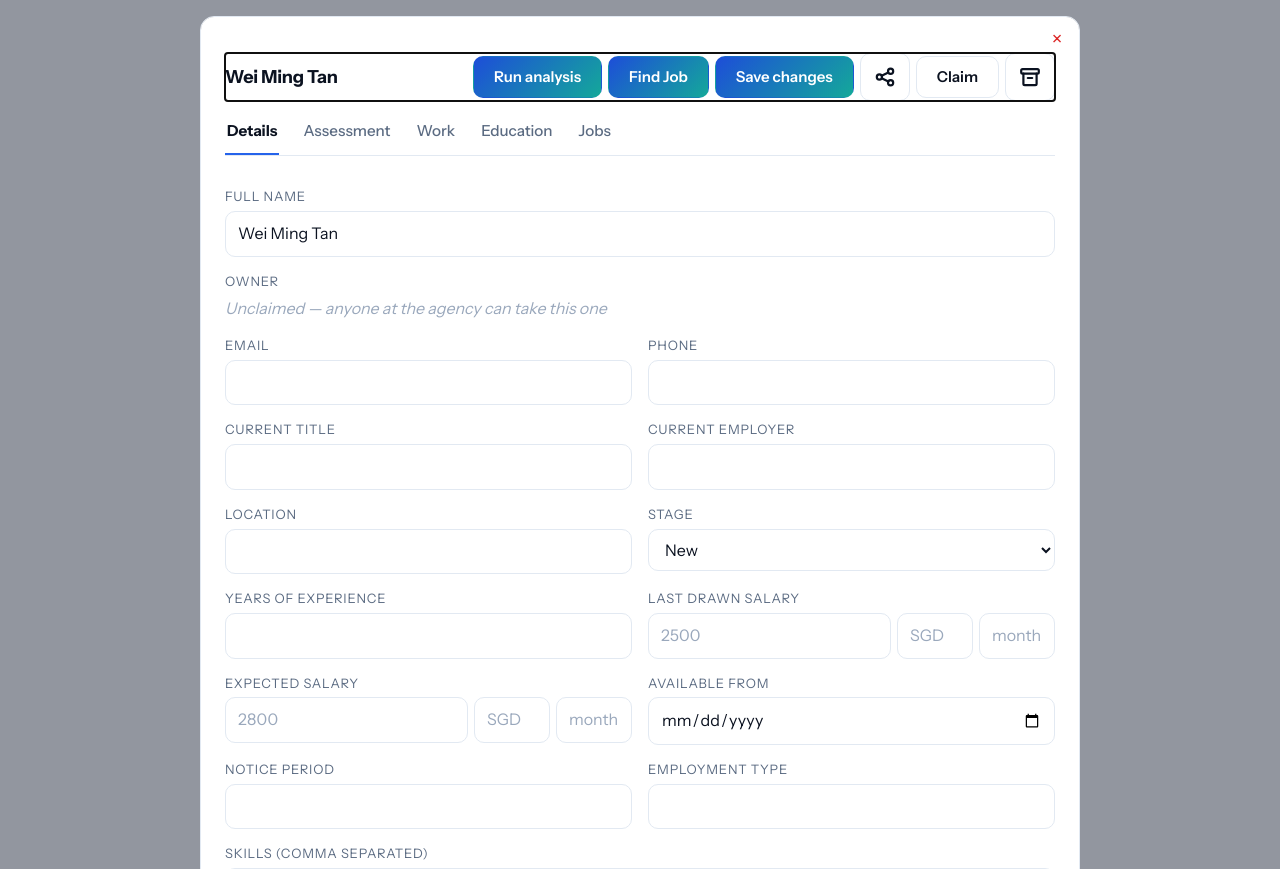
Test: Find Job on the candidate panel › replaces the shown dataset when Find Job runs again
Step 1. Click the button "Find Job" → {"x": 658, "y": 77}, box [608, 56, 709, 98]
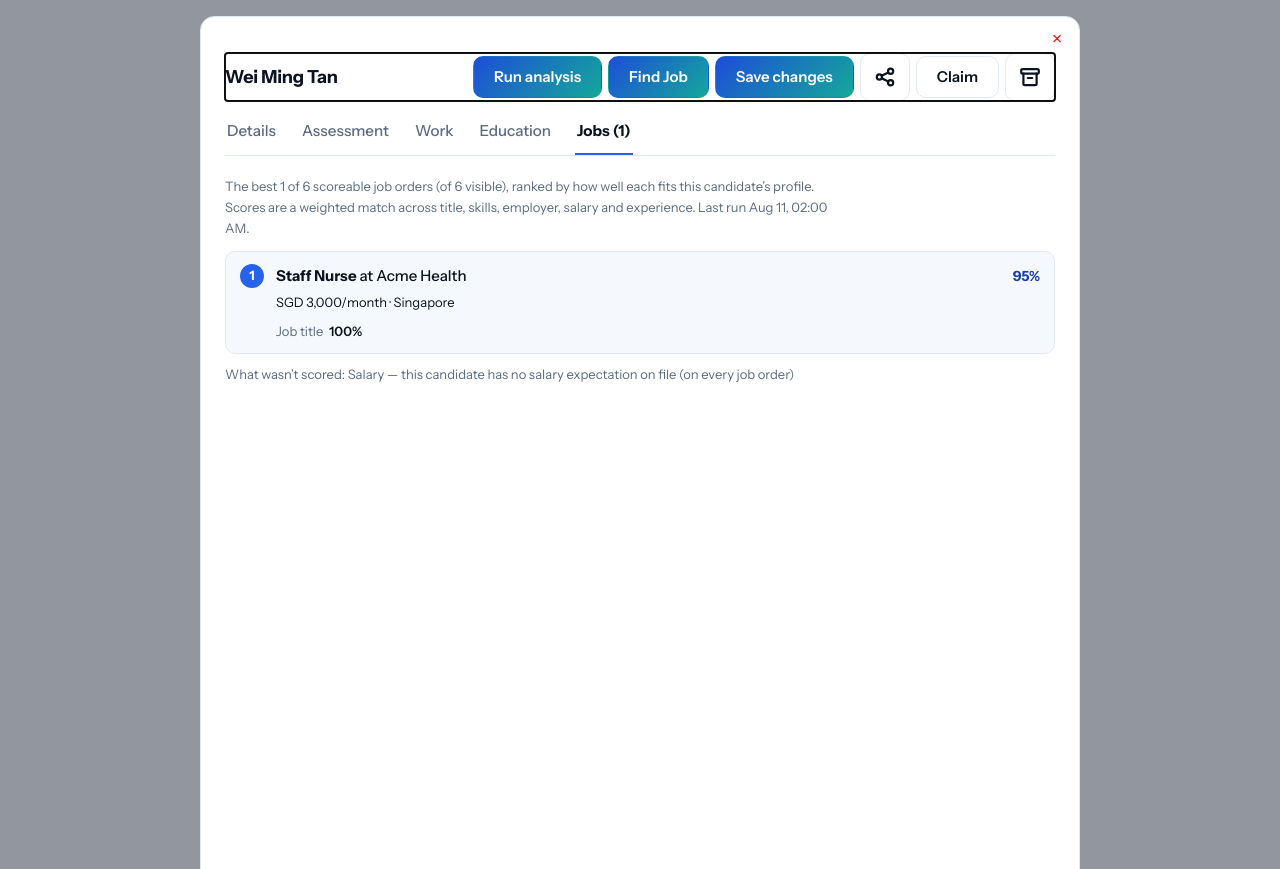
expect the text "Staff Nurse" is shown: met, box [276, 266, 356, 285]
Step 2. Click the button "Find Job" → {"x": 658, "y": 77}, box [608, 56, 709, 98]
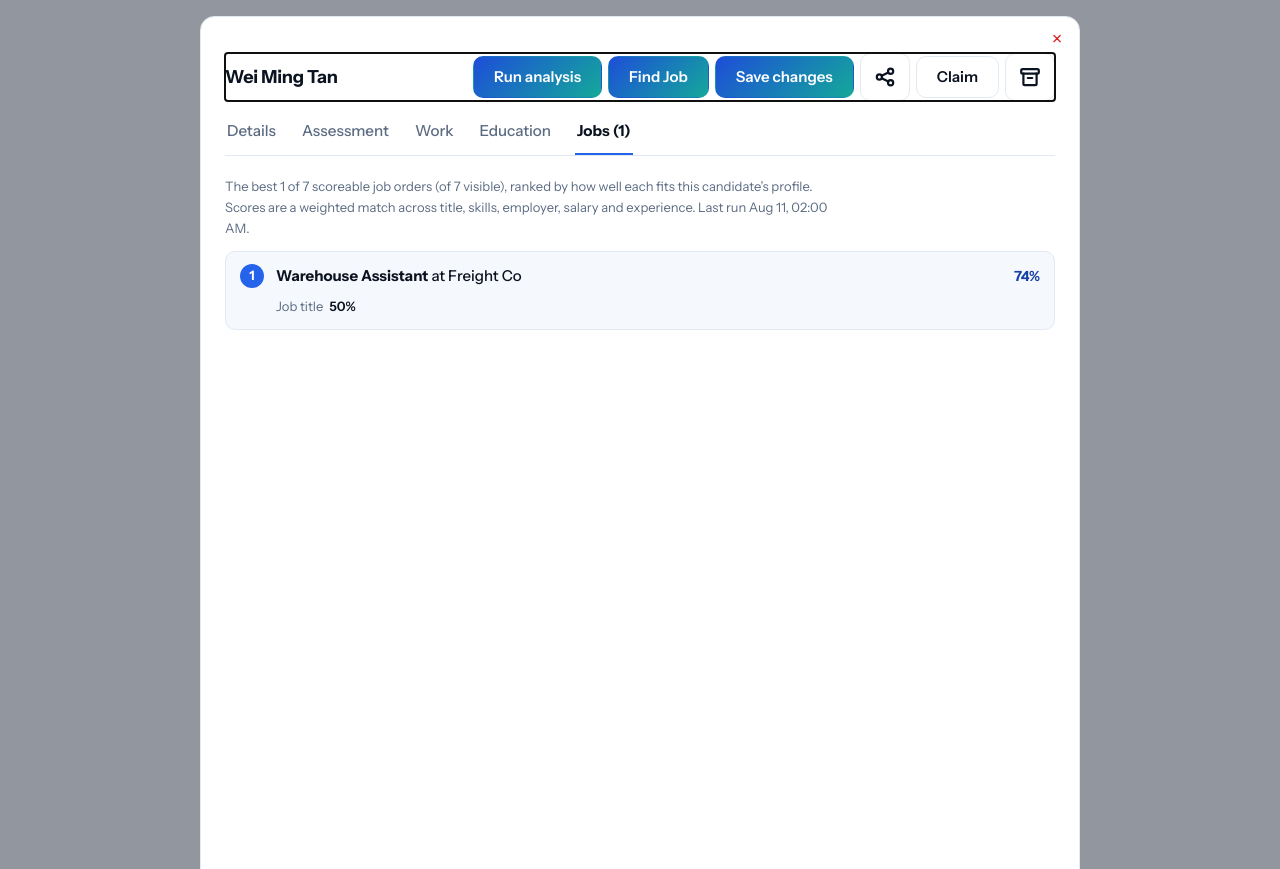
expect the text "Warehouse Assistant" is shown: met, box [276, 266, 428, 285]
expect the text "Staff Nurse" is gone: met
expect the text "at Acme Health" is gone: met
